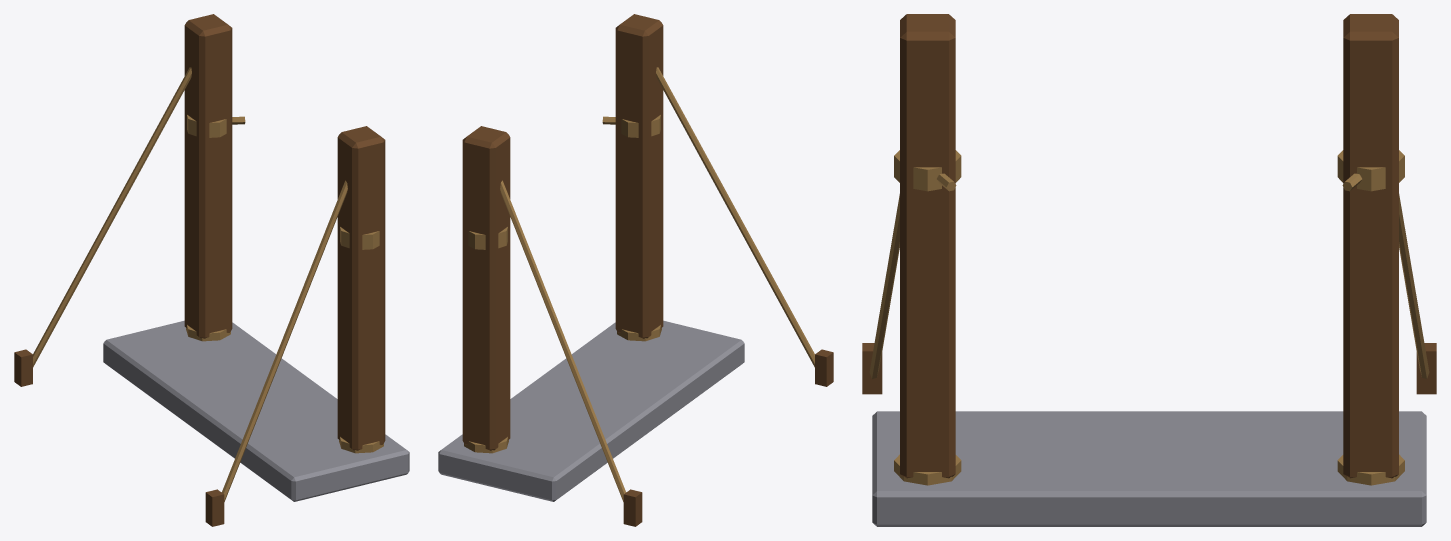
Rendered from Prop_YTM_RopeBridge_Anchor.glb.
The picture shows the model from 3 angles, left to right: view 1: azimuth 30°, elevation 25°; view 2: azimuth 150°, elevation 25°; view 3: azimuth 270°, elevation 25°; orthographic projection. The views are drawn at different scales.
Parts seen in each view (by area): view 1: Prop_YTM_RopeBridge_Anchor; view 2: Prop_YTM_RopeBridge_Anchor; view 3: Prop_YTM_RopeBridge_Anchor.
Boxes of the visible parts, <box> form: Prop_YTM_RopeBridge_Anchor: <box>14,14,409,526</box>; Prop_YTM_RopeBridge_Anchor: <box>438,14,833,526</box>; Prop_YTM_RopeBridge_Anchor: <box>862,14,1436,526</box>.
Size of what is drawn, in the model's own units: 0.855 by 1.35 by 1.45.
